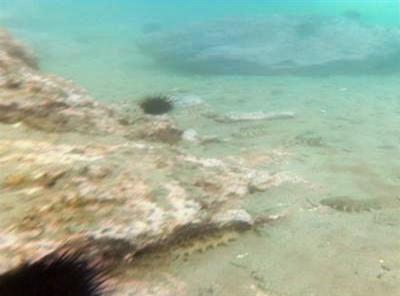urchin: (0, 245, 109, 296), (137, 90, 175, 116)
